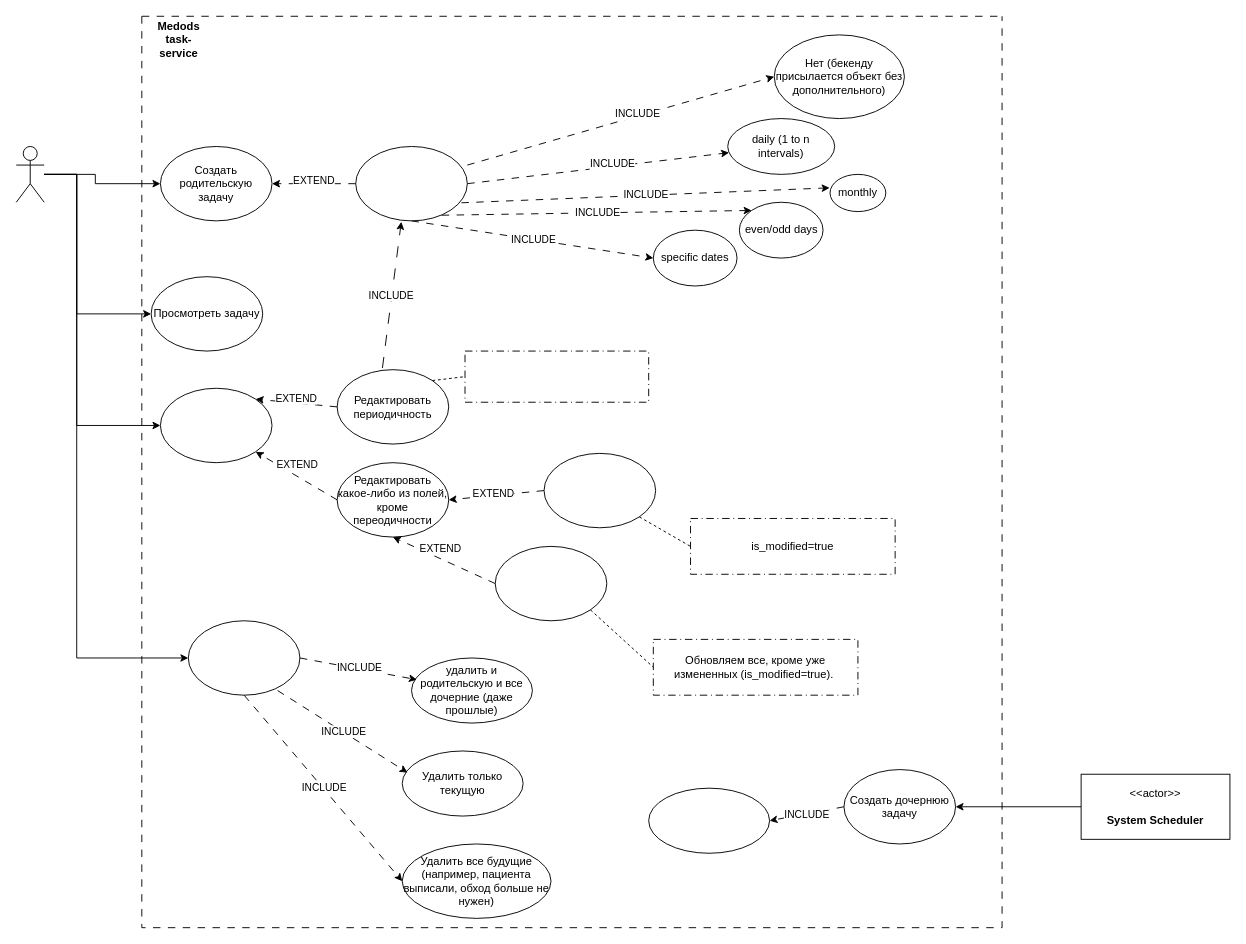
This 1246x944 diagram has some shape labels left out. Each missing label, with the centre of its shape:
"Врач" goes at point (29, 174).
"Добавить переодичность" goes at point (411, 183).
"Отобрать родительские задачи для создания" goes at point (709, 820).
"Редактировать задачу" goes at point (215, 425).
"Редактировать родителя и все дочерние" goes at point (550, 583).
"Редактировать только текущую" goes at point (599, 490).
"Удалить задачу" goes at point (243, 657).
"удаляем будущие и is_modified=false дочерние задачи + обновляем родителя" goes at point (556, 376).
